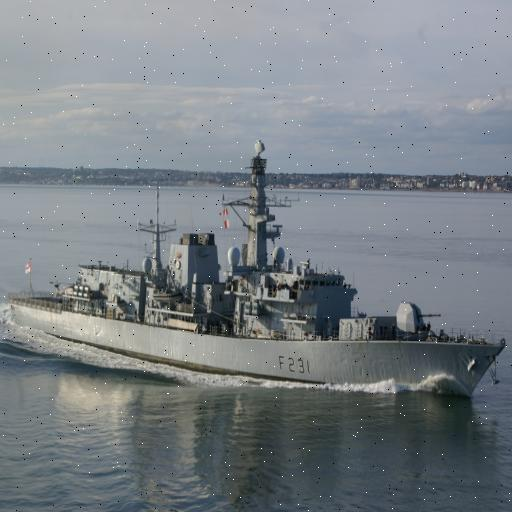Fragata: (1, 133, 510, 406)
